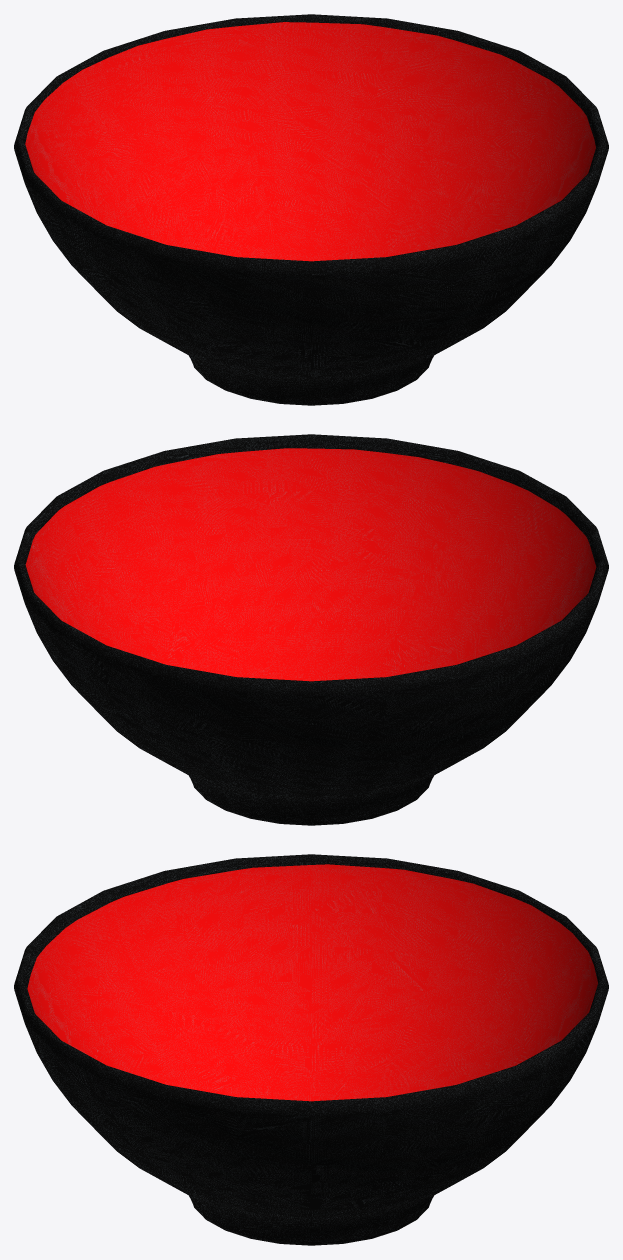
File: bowl_06_origin_gt.dae
3 renders of one model, top to bottom at view 1: azimuth 30°, elevation 25°; view 2: azimuth 150°, elevation 25°; view 3: azimuth 270°, elevation 25°, orthographic.
Parts seen in each view (by area): view 1: group_0 (×2); view 2: group_0 (×2); view 3: group_0 (×2).
Boxes of the visible parts, x1,y1,x2,y2 form: group_0 (×2): (14,14,608,405); group_0 (×2): (14,434,608,825); group_0 (×2): (14,854,608,1245).
Bounding box in the file's own units: 6.17 × 6.17 × 2.47.
